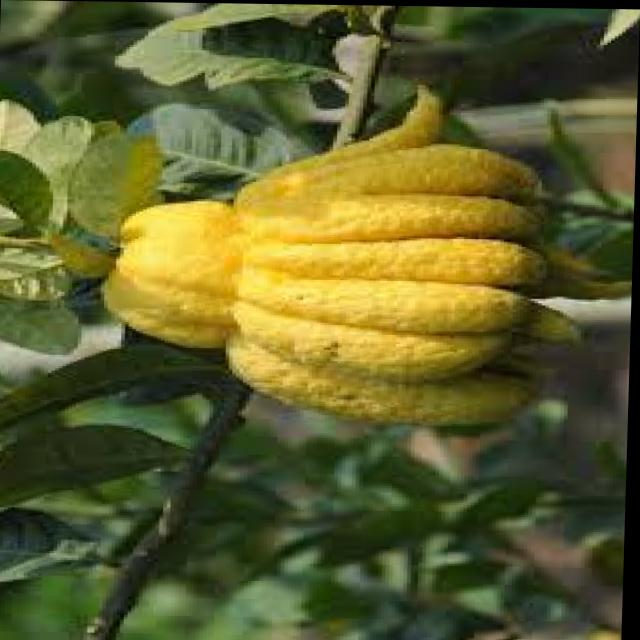PhatThu: (79, 81, 601, 436)
